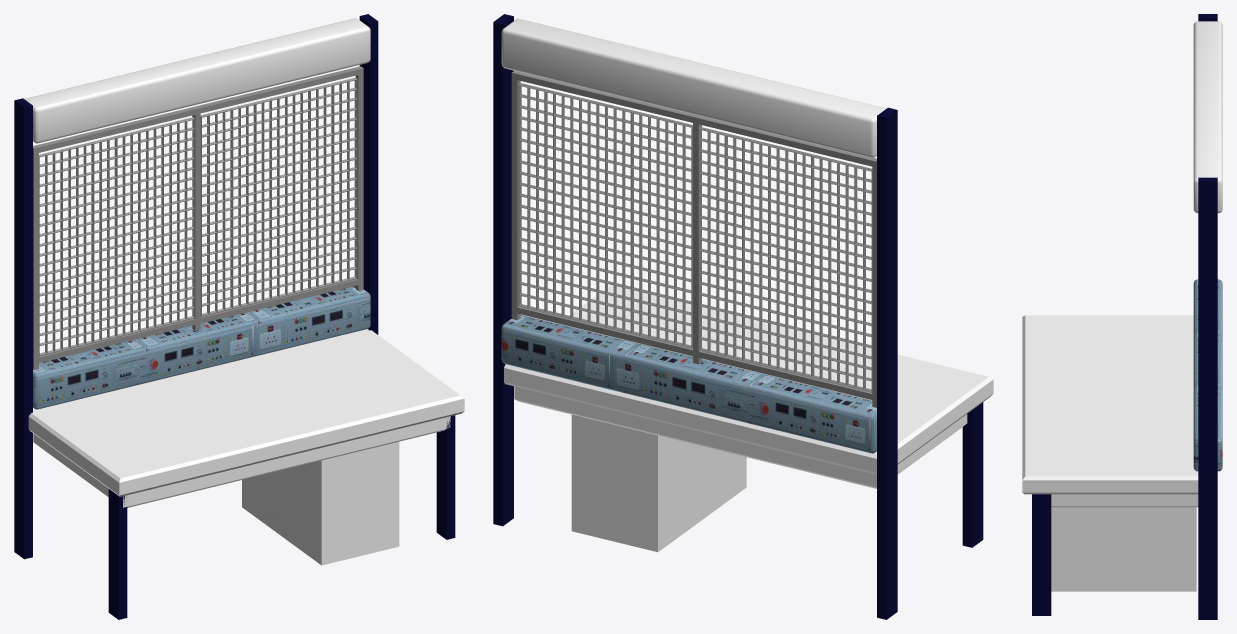
The model's file is consoleArea.FBX.
3 views of the same model, side by side, from view 1: azimuth 30°, elevation 25°; view 2: azimuth 150°, elevation 25°; view 3: azimuth 270°, elevation 25° (orthographic). The views are drawn at different scales.
Visible parts, largest first — view 1: Box001, Box008, Box007, ChamferBox002, ChamferBox001, Box002, Box003, Box004, Box010, Box005, Box013, Box006 (+3 smaller); view 2: Box001, Box008, Box007, ChamferBox002, ChamferBox001, Box002, Box003, Box004, Box010, Box005, Box013, Box011 (+2 smaller); view 3: Box001, Box002, Box004, ChamferBox002, Box006, ChamferBox001.
Boxes of the visible parts, x1,y1,x2,y2 form: Box001: (28, 329, 464, 507); Box008: (200, 77, 357, 316); Box007: (39, 117, 194, 356); ChamferBox002: (24, 18, 370, 143); ChamferBox001: (33, 286, 370, 409); Box002: (242, 442, 399, 565); Box003: (14, 98, 32, 559); Box004: (359, 14, 378, 334); Box010: (33, 66, 363, 153); Box005: (108, 489, 127, 619); Box013: (39, 279, 358, 362); Box006: (436, 415, 455, 539); Box001: (504, 285, 993, 488); Box008: (518, 83, 692, 348); Box007: (699, 127, 872, 392); ChamferBox002: (501, 18, 886, 157); ChamferBox001: (501, 315, 876, 453); Box002: (571, 414, 746, 552); Box003: (877, 107, 897, 619); Box004: (493, 14, 513, 526); Box010: (511, 71, 876, 167); Box005: (962, 402, 983, 547); Box013: (517, 306, 872, 399); Box011: (511, 78, 520, 320); Box001: (1022, 315, 1198, 507); Box002: (1051, 507, 1196, 591); Box004: (1198, 177, 1217, 619); ChamferBox002: (1193, 21, 1222, 213); Box006: (1032, 494, 1051, 615); ChamferBox001: (1193, 279, 1222, 471).
Size of the model in its own units: 205 by 250 by 104.
